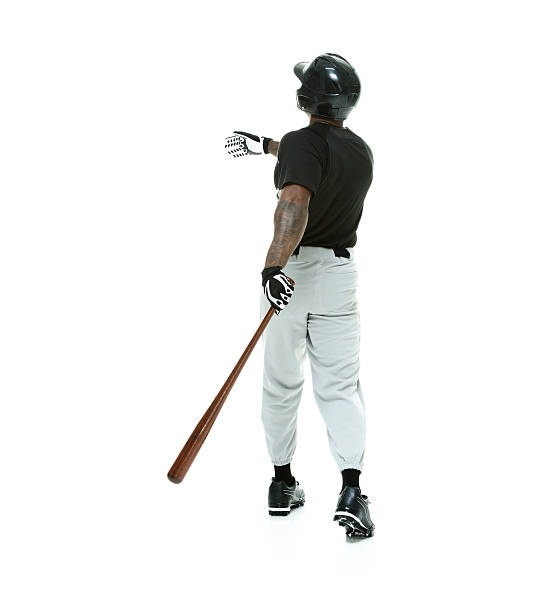bita: (165, 267, 293, 483)
